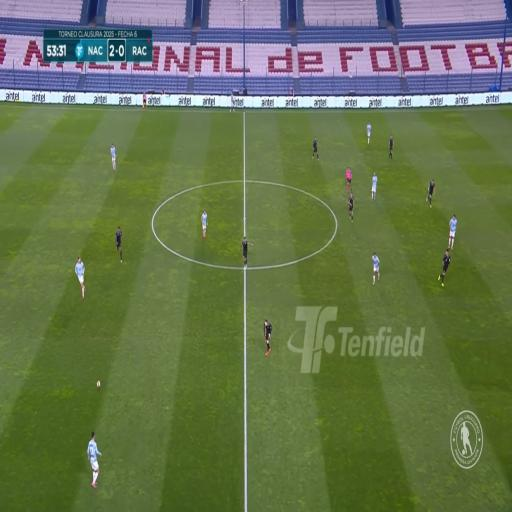Ball: (96, 380, 100, 388)
Player: (88, 428, 101, 488), (437, 249, 450, 289), (76, 256, 86, 298), (446, 214, 457, 252), (425, 177, 435, 210), (264, 319, 272, 360), (370, 254, 379, 285), (116, 227, 123, 264), (202, 207, 209, 243), (370, 173, 378, 202), (241, 237, 248, 267), (348, 189, 354, 223), (111, 144, 117, 172), (313, 132, 319, 160), (388, 134, 394, 157), (366, 119, 371, 145)
Referee: (344, 164, 352, 191)
